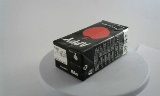appy: (49, 20, 121, 81)
